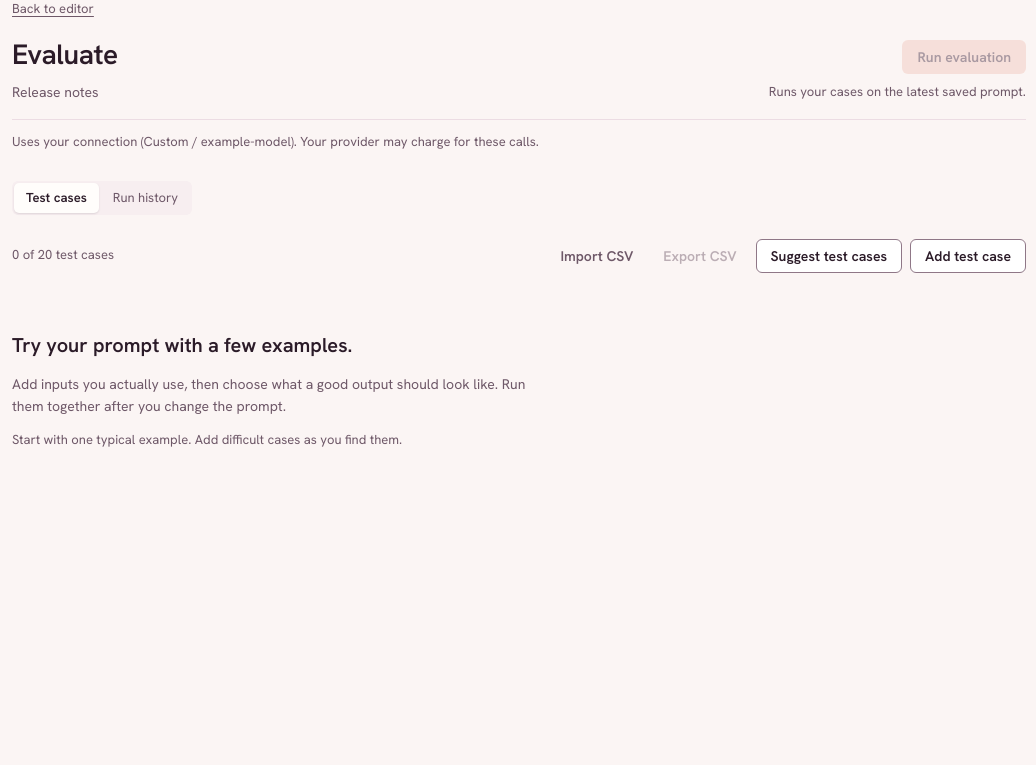
Test: reviews AI suggestions without saving them until the user accepts an edited case
The width and height of the screenshot is (1036, 765).
expect the heading "Evaluate" is shown: met, box [12,32,118,77]
Click the button "Suggest test cases". click: (829, 256)
box: [756,239,902,273]
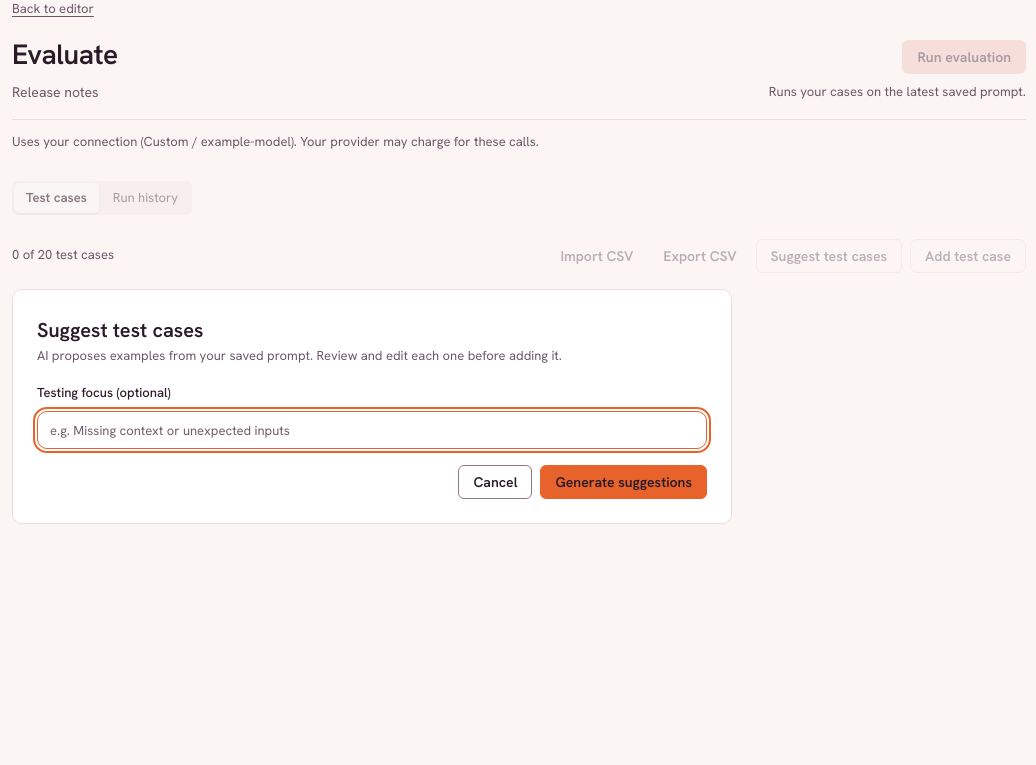
Type "Output format" into the field labelled "Testing focus (optional)". click: (372, 430)
box: [37,411,707,449]
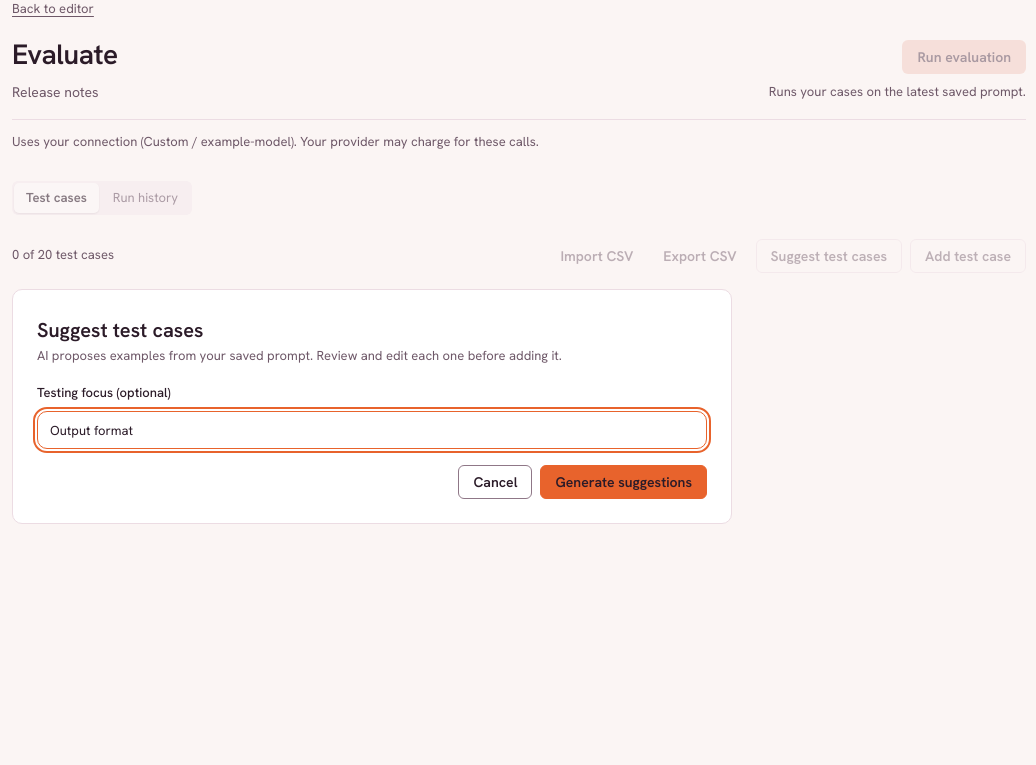
Click the button "Generate suggestions". click: (624, 482)
box: [540,465,707,499]
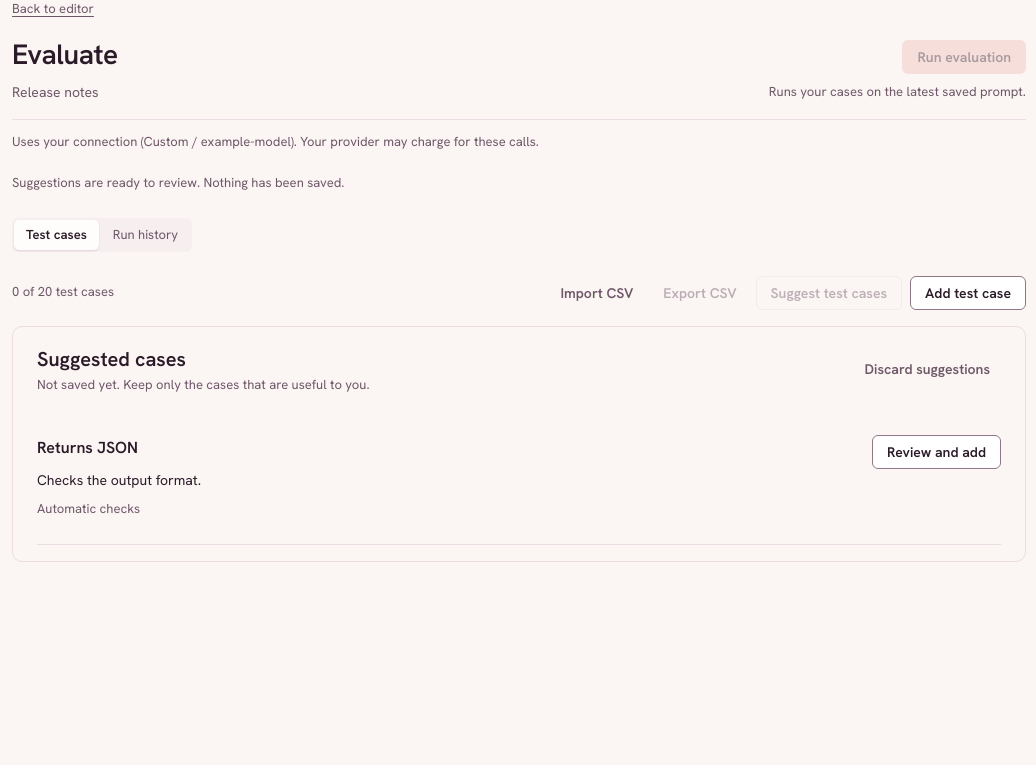
expect the heading "Try your prompt with a few examples." is not shown: met
expect the text "Checks the output format." is shown: met, box [37,471,201,489]
Click the button with aria-label "Review and add Returns JSON". click: (936, 452)
box: [872,435,1001,469]
(page scrolled)
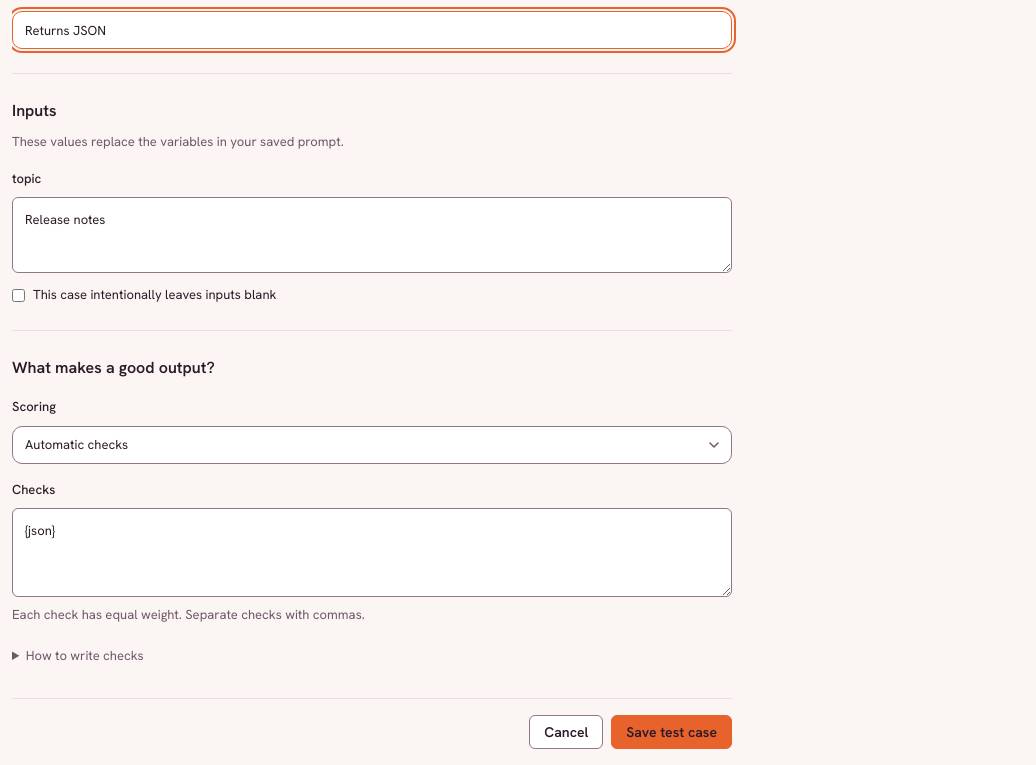
expect the text box labelled "Checks" holds "{json}": met, box [12,508,732,597]
Click the button "Save test case". click: (672, 732)
box: [611,715,732,749]
(page scrolled)
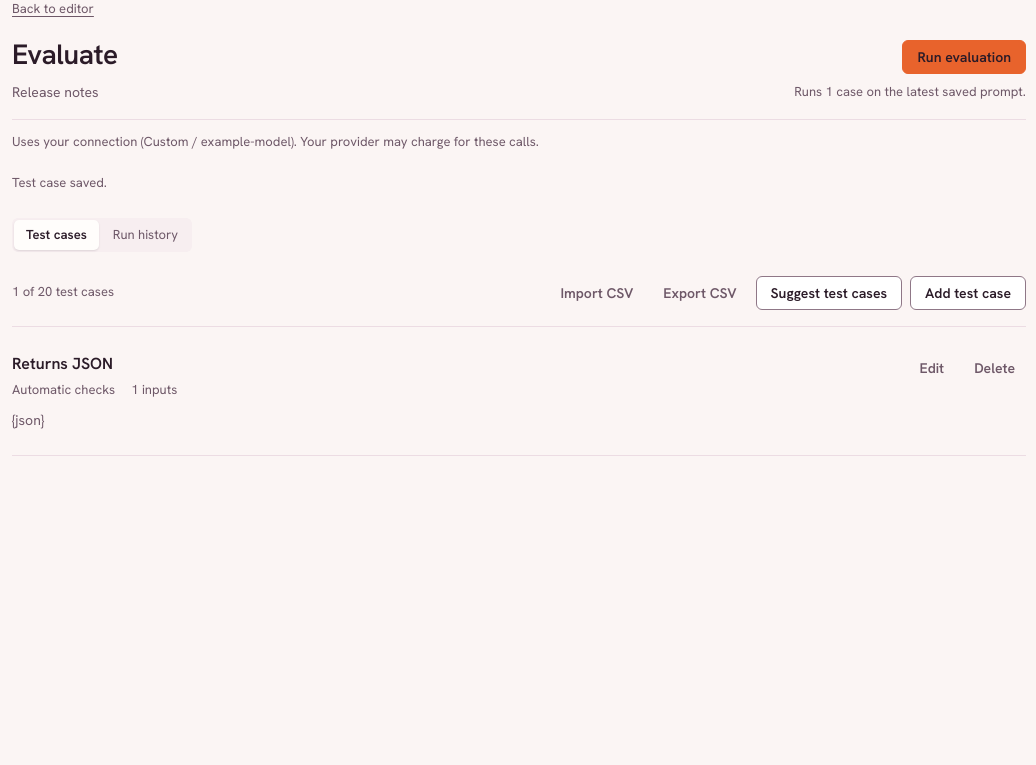
expect the heading "Returns JSON" is shown: met, box [12,353,113,374]
